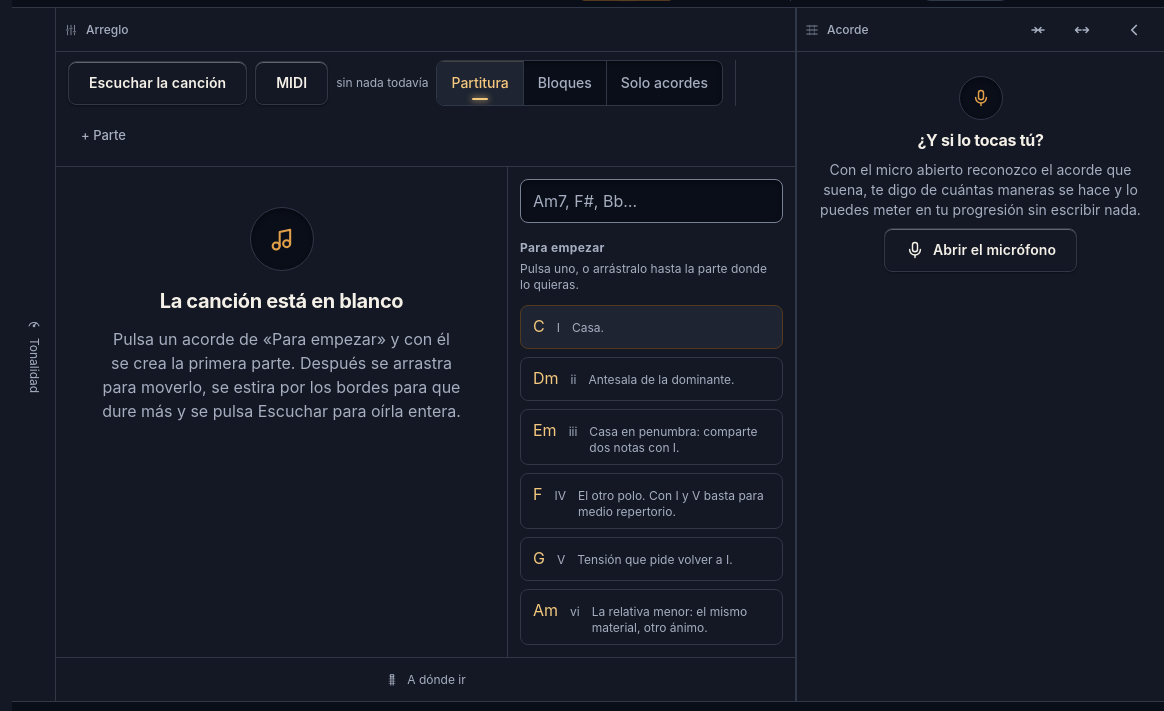
Test: Repartir sin arrastrar › en su tope, el boton se apaga
The width and height of the screenshot is (1164, 711).
(page scrolled)
Click the button with aria-label "Desplegar Tonalidad" at (34, 354), box [12, 8, 56, 701]
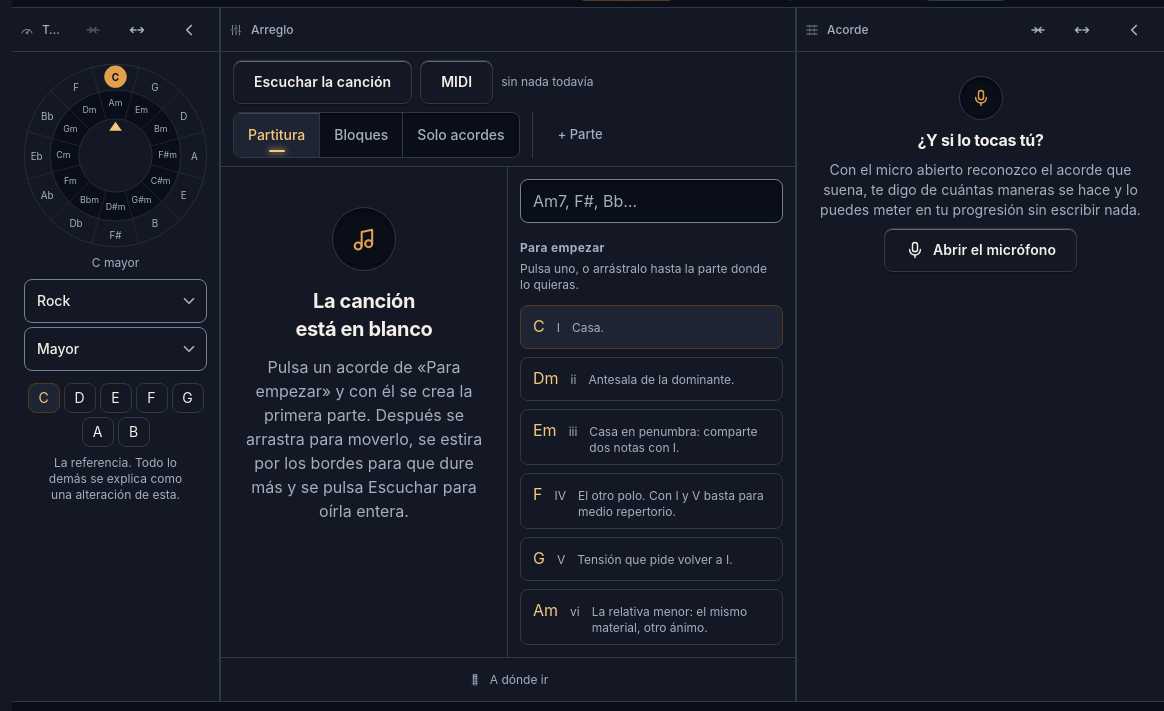
Expected: the button named "Estrechar Tonalidad" is disabled, [71, 8, 115, 52]
Expected: the button named "Ensanchar Tonalidad" is enabled, [115, 8, 159, 52]
